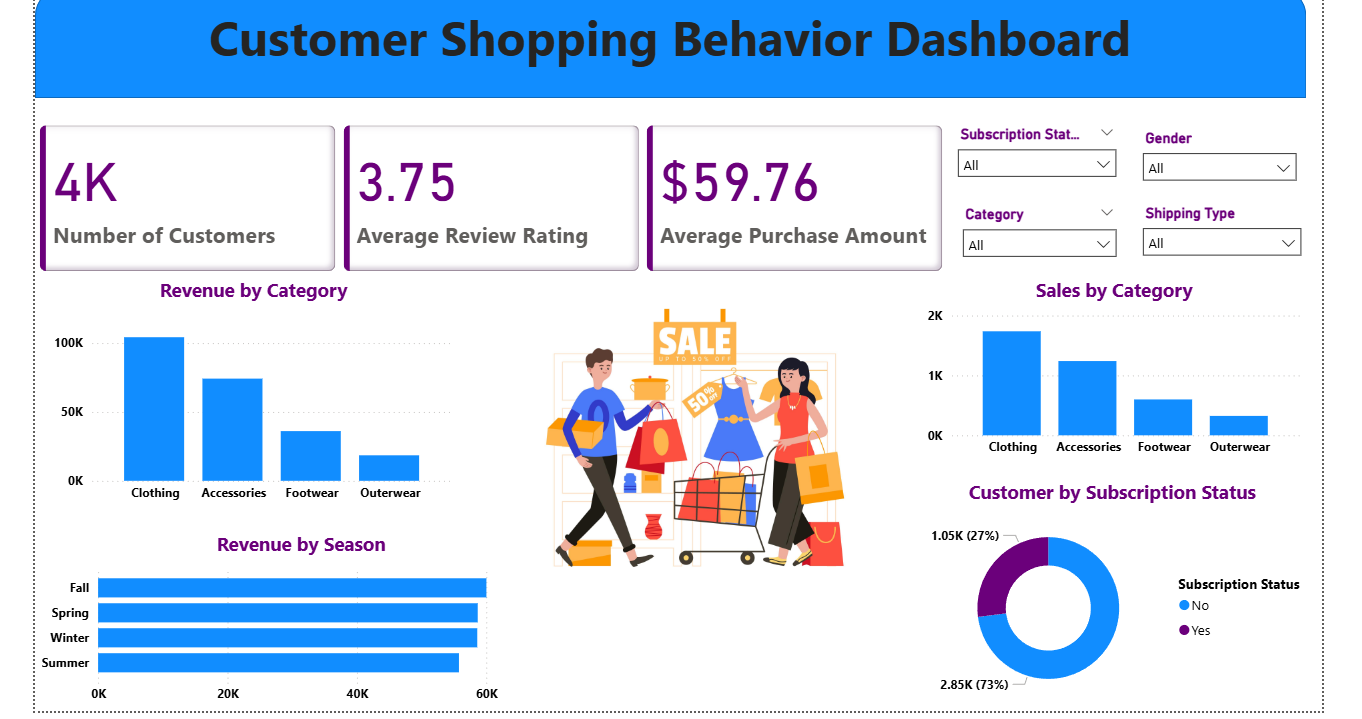

The page's visual inventory and layout, read from the dashboard file:
{"tool":"powerbi","page":{"name":"Page 1","canvas":[1280,720],"ordinal":0},"visuals":[{"type":"cardVisual","fields":{"Data":["final_customer_data.Number of Customers","final_customer_data.Averge Review Rating","final_customer_data.Averge Purchase Amount"]},"box":[0,131.7,908.4,155.1],"z":0},{"type":"shape","box":[0,0,1265.1,109.5],"z":1000},{"type":"textbox","box":[13.7,11.2,1236.5,89.6],"z":2000},{"type":"donutChart","title":"Customer by Subscription Status","fields":{"Category":["final_customer_data.Subscription Status"],"Y":["CountNonNull(final_customer_data.Customer ID)"]},"box":[874.1,488.5,395.2,231.9],"z":3000},{"type":"columnChart","title":"Revenue by Category","fields":{"Category":["final_customer_data.Category"],"Y":["Sum(final_customer_data.Purchase Amount (USD))"]},"box":[13.7,286.8,407.5,233.3],"z":4000},{"type":"columnChart","title":"Sales by Category","fields":{"Category":["final_customer_data.Category"],"Y":["CountNonNull(final_customer_data.Customer ID)"]},"box":[883.7,286.8,381.5,188],"z":5000},{"type":"slicer","fields":{"Values":["final_customer_data.Subscription Status"]},"box":[908.1,131.9,177.9,67.2],"z":6000},{"type":"slicer","fields":{"Values":["final_customer_data.Category"]},"box":[913.1,211.5,172.9,64.7],"z":7000},{"type":"slicer","fields":{"Values":["final_customer_data.Gender"]},"box":[1092.2,135.6,172.9,63.4],"z":8000},{"type":"slicer","fields":{"Values":["final_customer_data.Shipping Type"]},"box":[1092.2,210.2,177.9,65.9],"z":9000},{"type":"clusteredBarChart","title":"Revenue by Season","fields":{"Y":["Sum(final_customer_data.Purchase Amount (USD))"],"Category":["final_customer_data.Season"]},"box":[0,539.3,529.7,181.1],"z":10000},{"type":"image","box":[454,287.4,405.5,342.1],"z":11000}]}

Visuals, with their boxes on the page's 1280x720 design canvas (x1, y1, x2, y2). These are canvas units, not pixel positions in the 1362x719 screenshot, which may show the page scaled, cropped or inside an application window:
cardVisual - final_customer_data.Number of Customers x final_customer_data.Averge Review Rating: {"x1": 0, "y1": 132, "x2": 908, "y2": 287}
shape: {"x1": 0, "y1": 0, "x2": 1265, "y2": 110}
textbox: {"x1": 14, "y1": 11, "x2": 1250, "y2": 101}
"Customer by Subscription Status" donutChart: {"x1": 874, "y1": 488, "x2": 1269, "y2": 720}
"Revenue by Category" columnChart: {"x1": 14, "y1": 287, "x2": 421, "y2": 520}
"Sales by Category" columnChart: {"x1": 884, "y1": 287, "x2": 1265, "y2": 475}
slicer - final_customer_data.Subscription Status: {"x1": 908, "y1": 132, "x2": 1086, "y2": 199}
slicer - final_customer_data.Category: {"x1": 913, "y1": 212, "x2": 1086, "y2": 276}
slicer - final_customer_data.Gender: {"x1": 1092, "y1": 136, "x2": 1265, "y2": 199}
slicer - final_customer_data.Shipping Type: {"x1": 1092, "y1": 210, "x2": 1270, "y2": 276}
"Revenue by Season" clusteredBarChart: {"x1": 0, "y1": 539, "x2": 530, "y2": 720}
image: {"x1": 454, "y1": 287, "x2": 860, "y2": 630}
